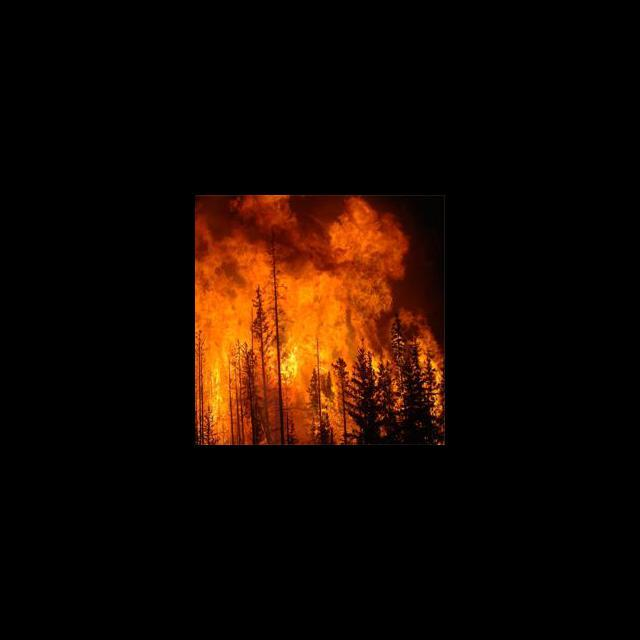Fire: (196, 200, 443, 444)
